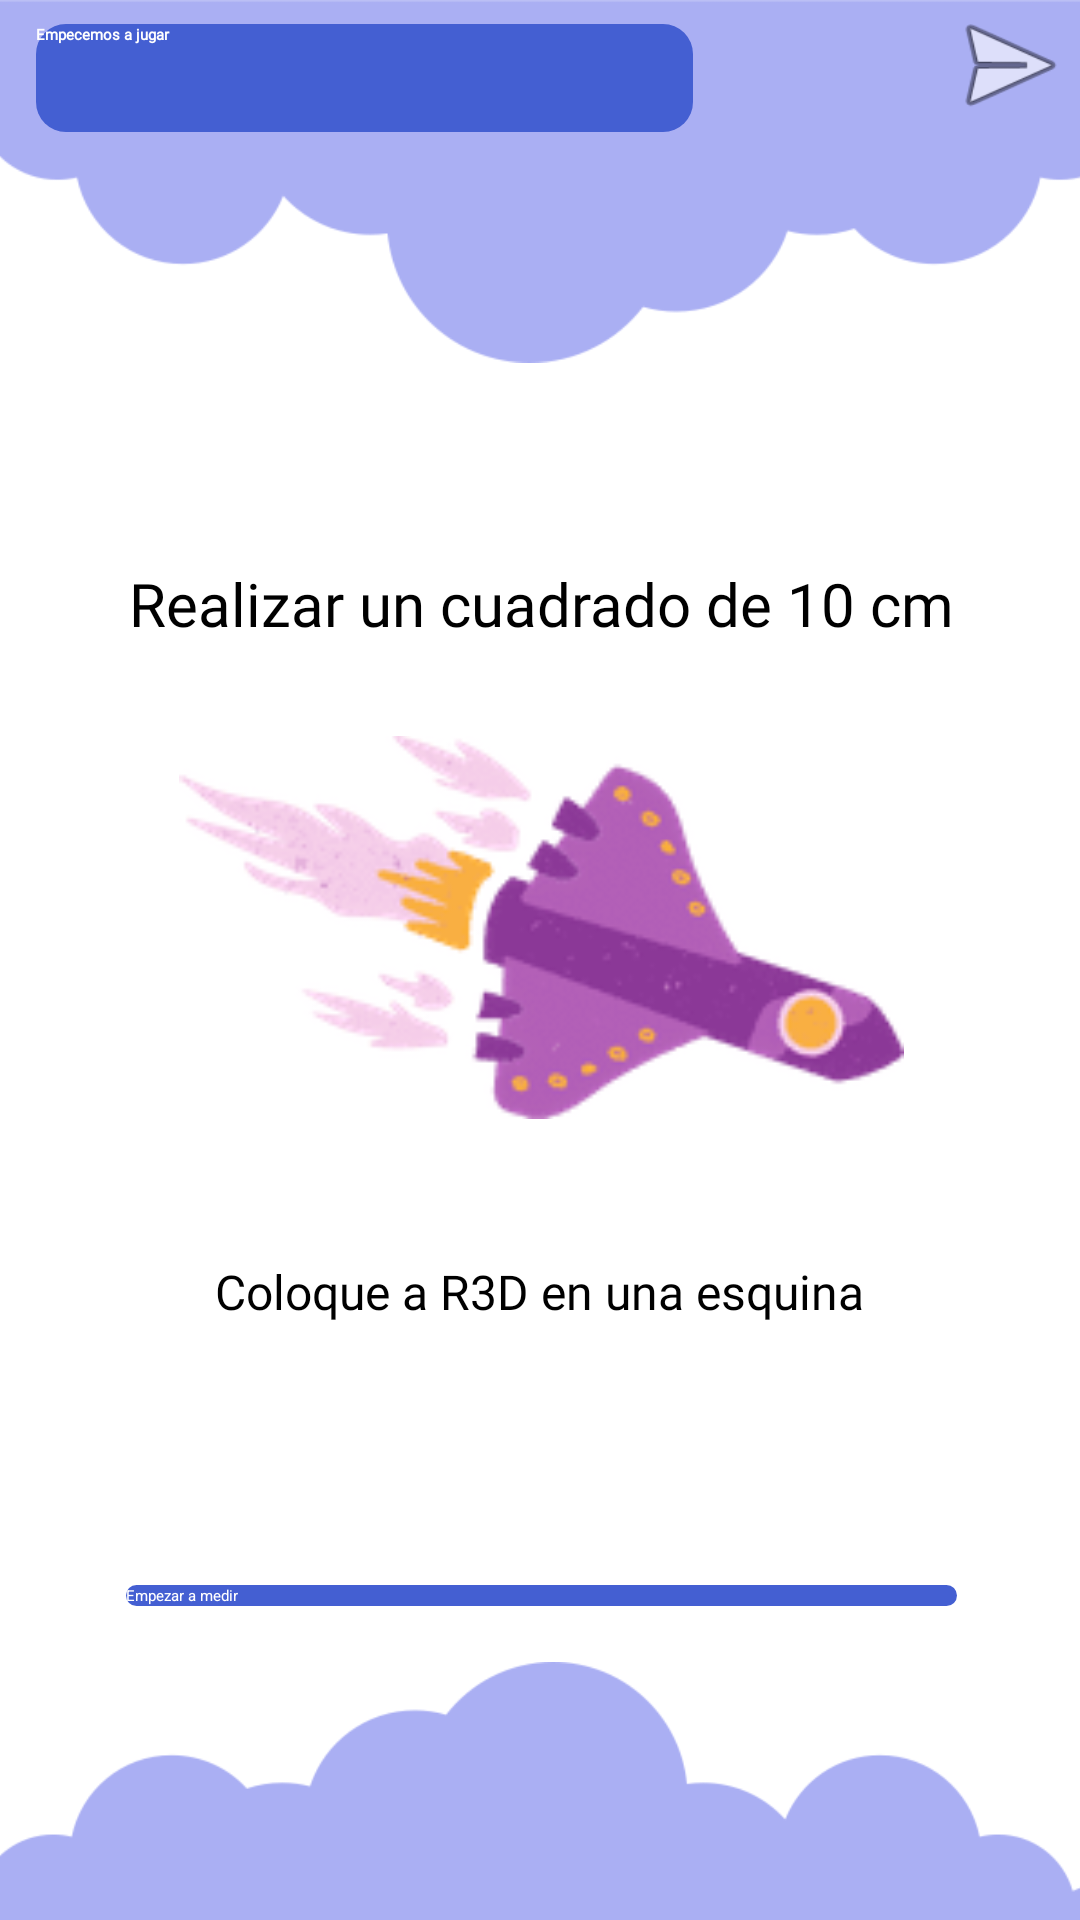

Icons on this 1080×1920 Android screen, each with its box as {"x1": x1, "y1": y1, "x2": x2, "y2": y2}:
send: {"x1": 965, "y1": 24, "x2": 1056, "y2": 106}
